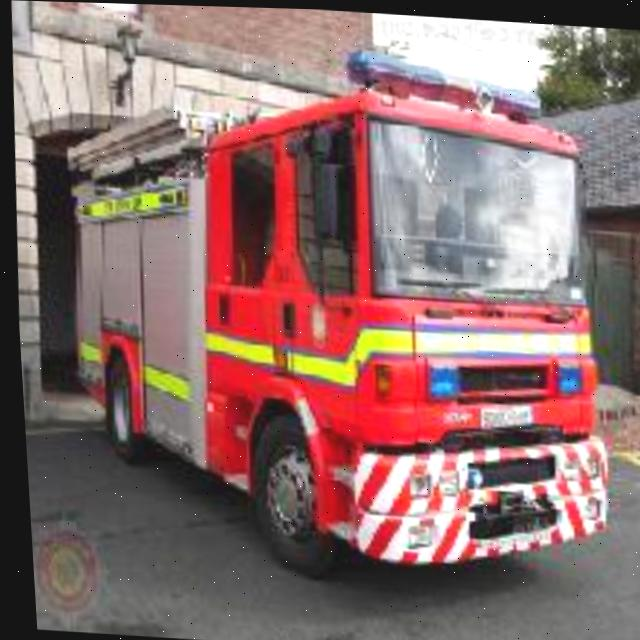emergency: (55, 39, 602, 571)
